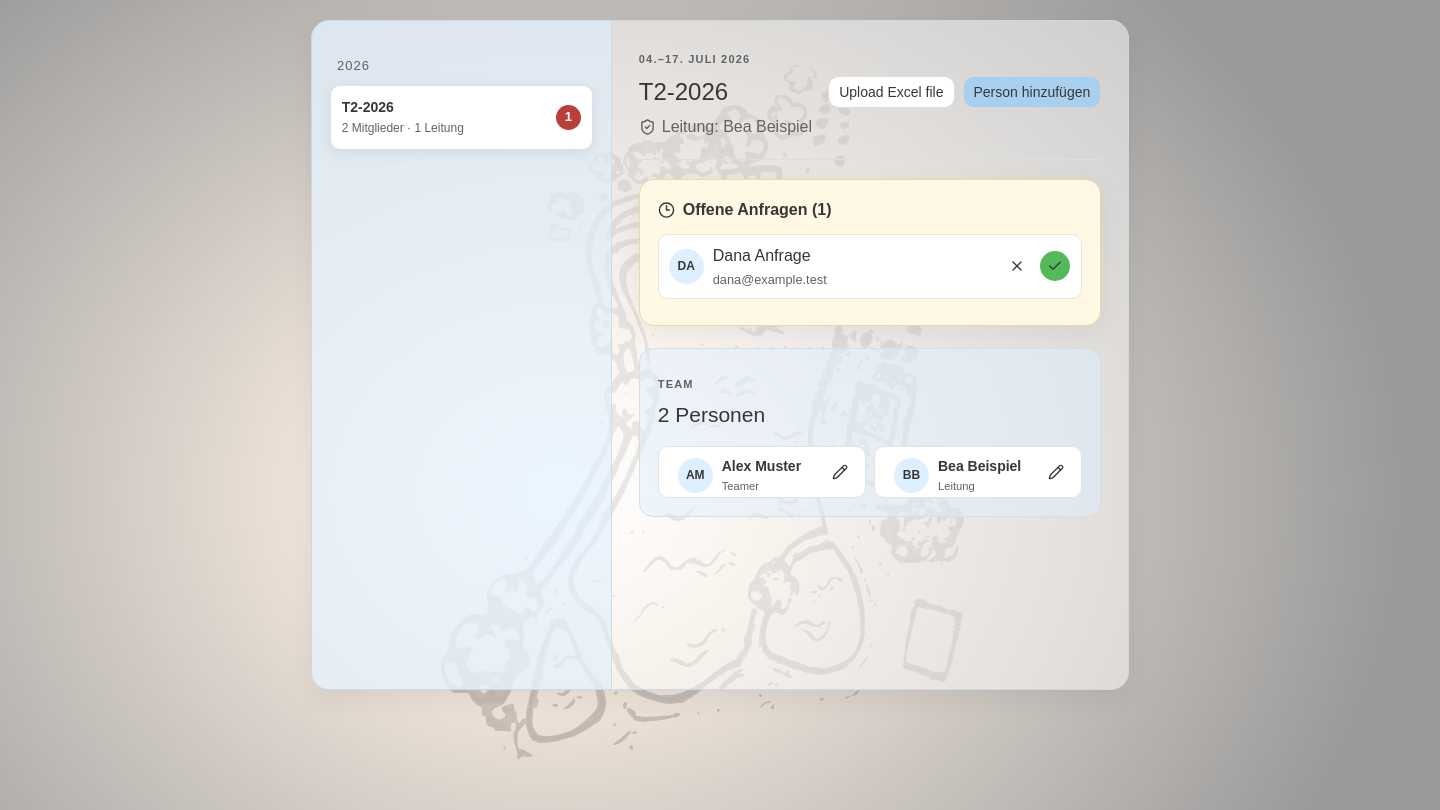
Test case: admin team overview › opens the admin member editor before changing Leitung through an explicit action
Click the button named "Alex Muster bearbeiten" at (840, 472), box [824,456,856,488]
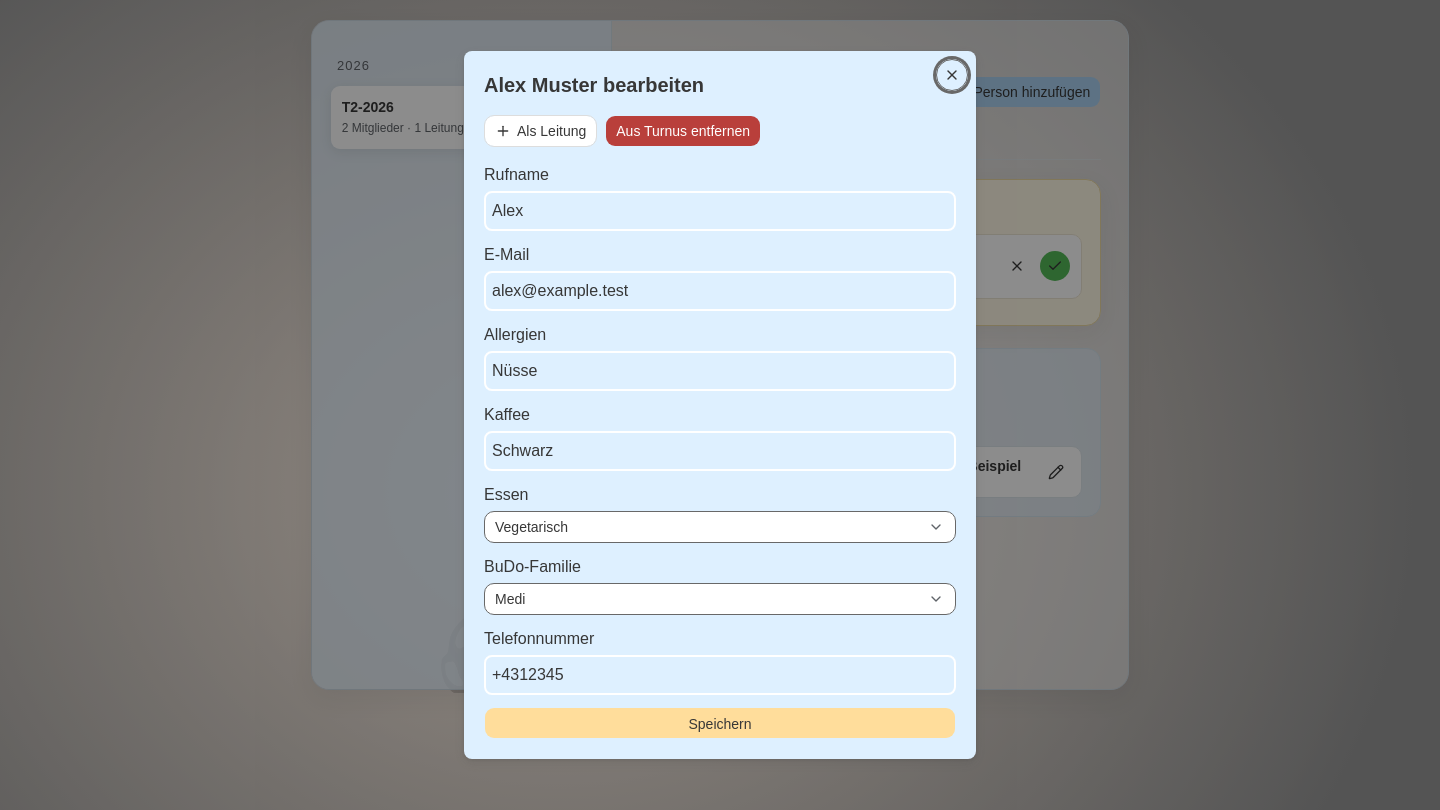
Expected: the button with aria-label "Alex Muster als Leitung einsetzen" reads "Als Leitung"
Expected: the button with aria-label "Alex Muster aus dem Turnus entfernen" reads "Aus Turnus entfernen", [605,115,761,147]
Expected: the field labelled "Rufname" holds "Alex", [484,191,956,231]
Click the button with aria-label "Alex Muster als Leitung einsetzen" at (541, 131), box [484,115,597,147]
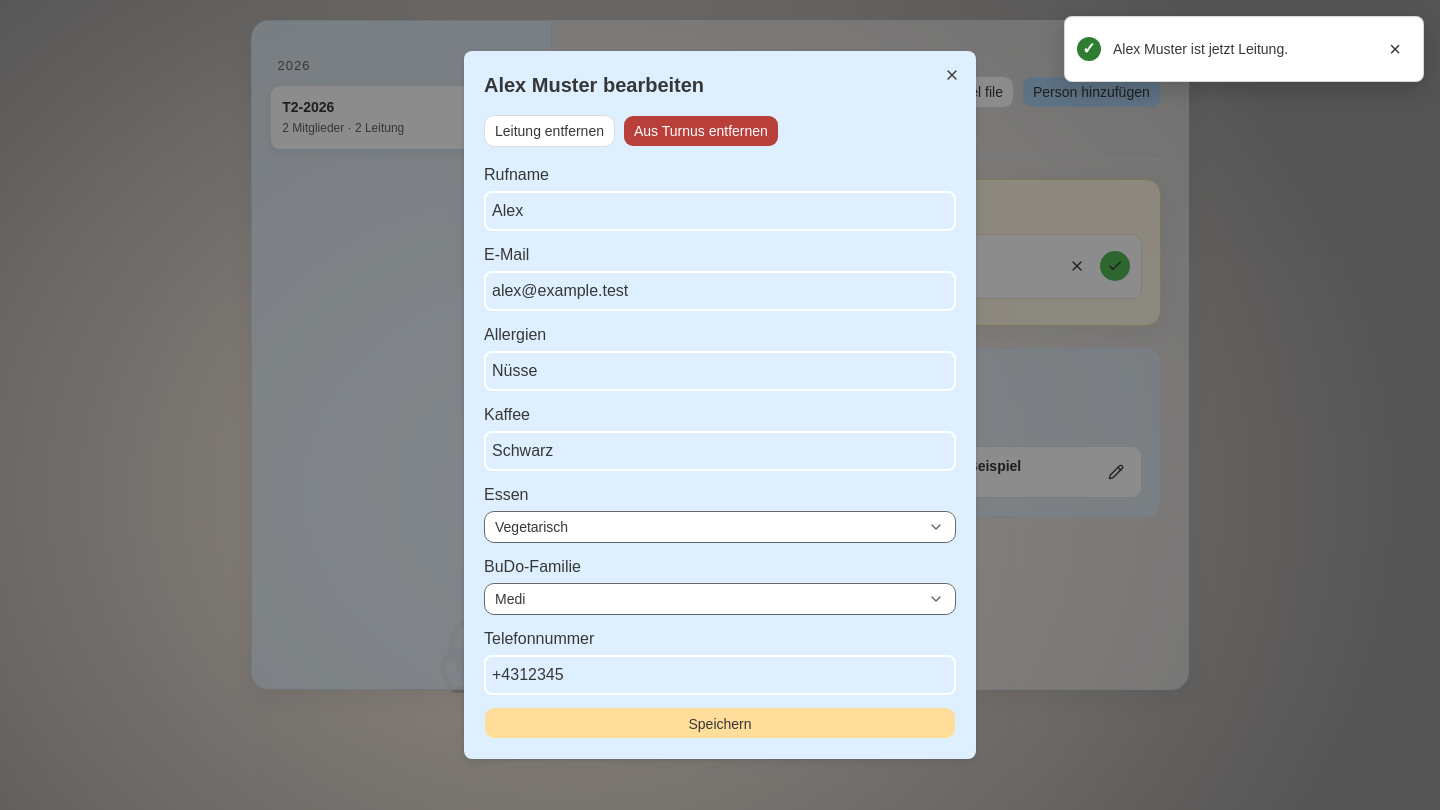
Expected: the button with aria-label "Alex Muster Leitung entfernen" is shown, [484,115,615,147]
